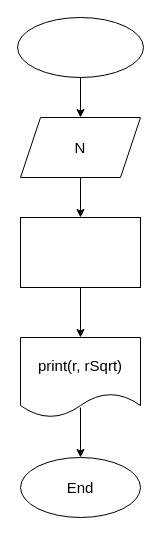
Some shapes in this 161 by 535 pixel diagram are drawn without their labels. The box of each missing label's shape, as (x1, y1, x2, y2) in pixels:
r r = random(1,N) rSqrt rSqrt = Sqrt(r): (20, 216, 140, 288)
Start: (16, 16, 144, 78)
